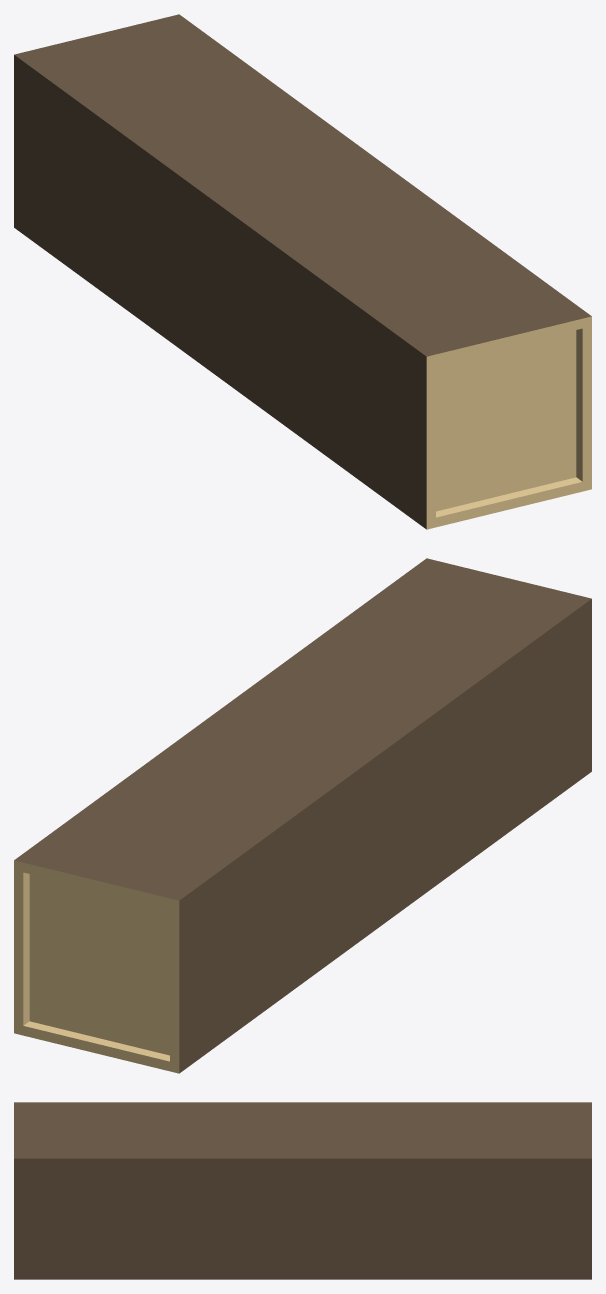
File: SM_Log_01_A.fbx
The picture shows the model from 3 angles, top to bottom: view 1: azimuth 30°, elevation 25°; view 2: azimuth 150°, elevation 25°; view 3: azimuth 270°, elevation 25°; orthographic projection. The views are drawn at different scales.
Visible parts, largest first — view 1: pCube440; view 2: pCube440; view 3: pCube440.
Boxes of the visible parts, x1,y1,x2,y2 form: pCube440: [14, 14, 591, 529]; pCube440: [14, 558, 591, 1073]; pCube440: [14, 1102, 591, 1279].
Bounding box in the file's own units: 16.99 × 16.99 × 73.49.
